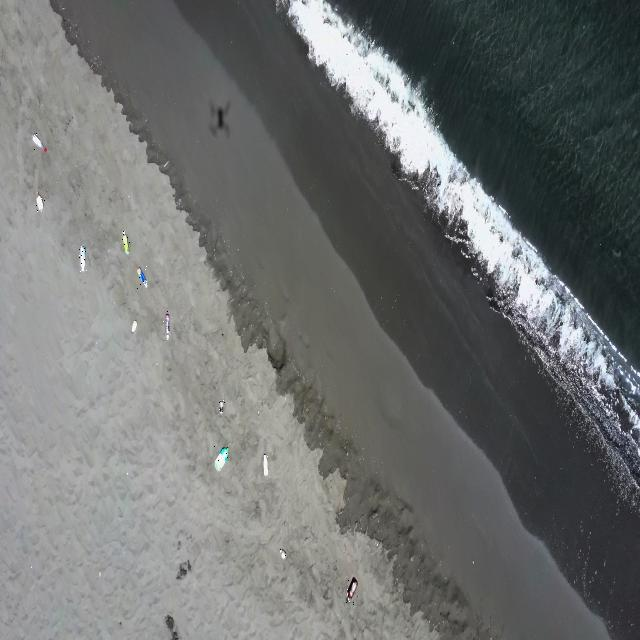plastic-bottle: (213, 446, 230, 473), (346, 578, 358, 606), (31, 132, 46, 152), (136, 265, 148, 289), (79, 245, 87, 274), (163, 311, 171, 340), (35, 190, 45, 213), (122, 229, 130, 256), (263, 454, 269, 479), (130, 319, 138, 335), (218, 401, 225, 418), (279, 548, 287, 560)
